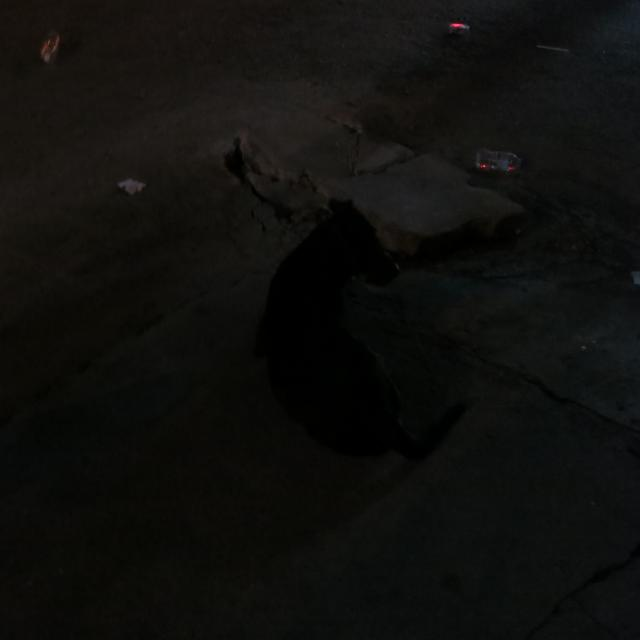Dog: (252, 192, 469, 483)
